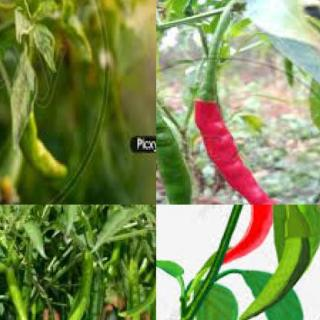green_chilli: (236, 233, 316, 319), (157, 68, 196, 204), (39, 247, 94, 319), (16, 115, 72, 182), (116, 244, 156, 318), (4, 268, 36, 319), (82, 276, 108, 320), (130, 261, 141, 319)
